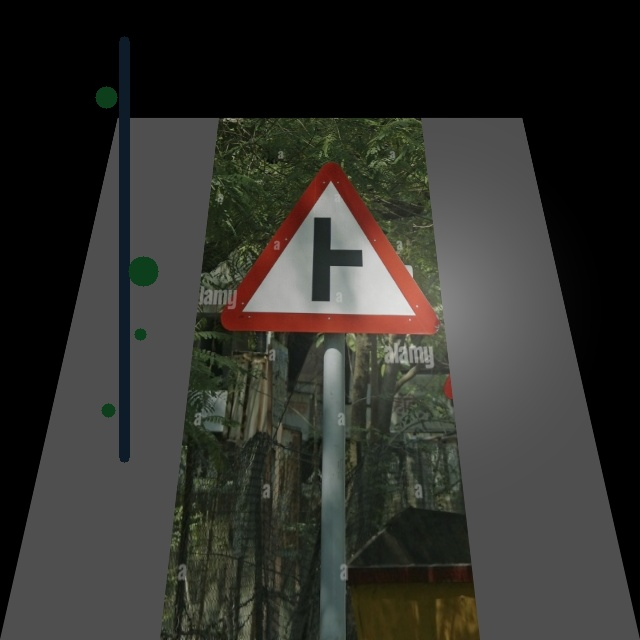Side_Road_Right: (222, 160, 439, 338)
